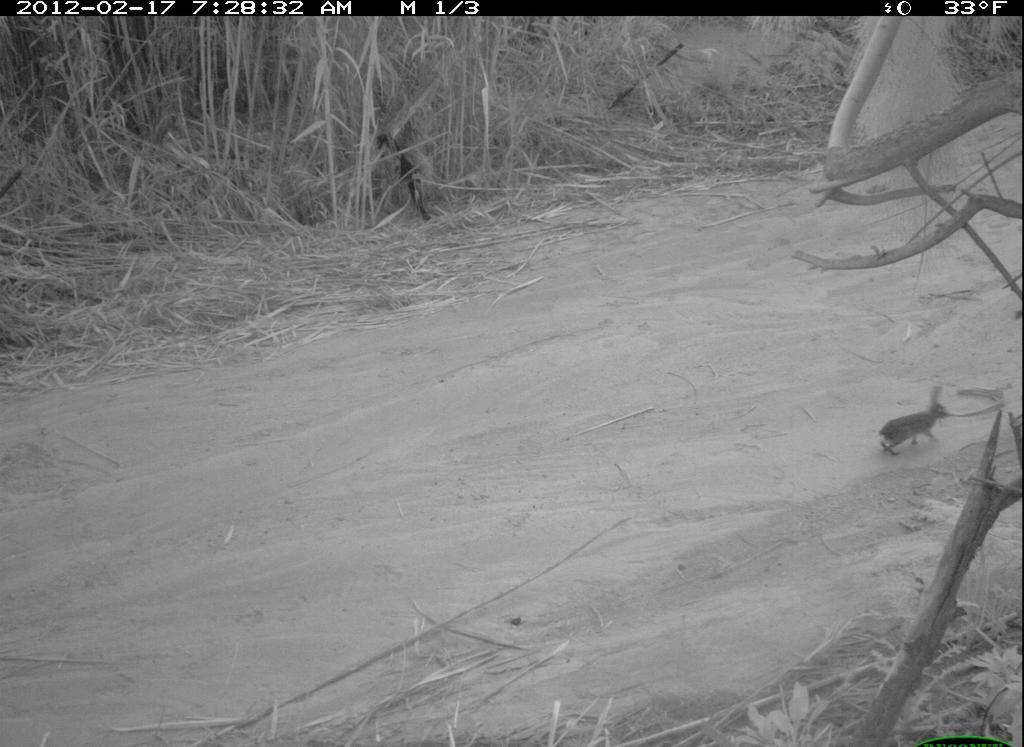rabbit: (872, 368, 957, 465)
